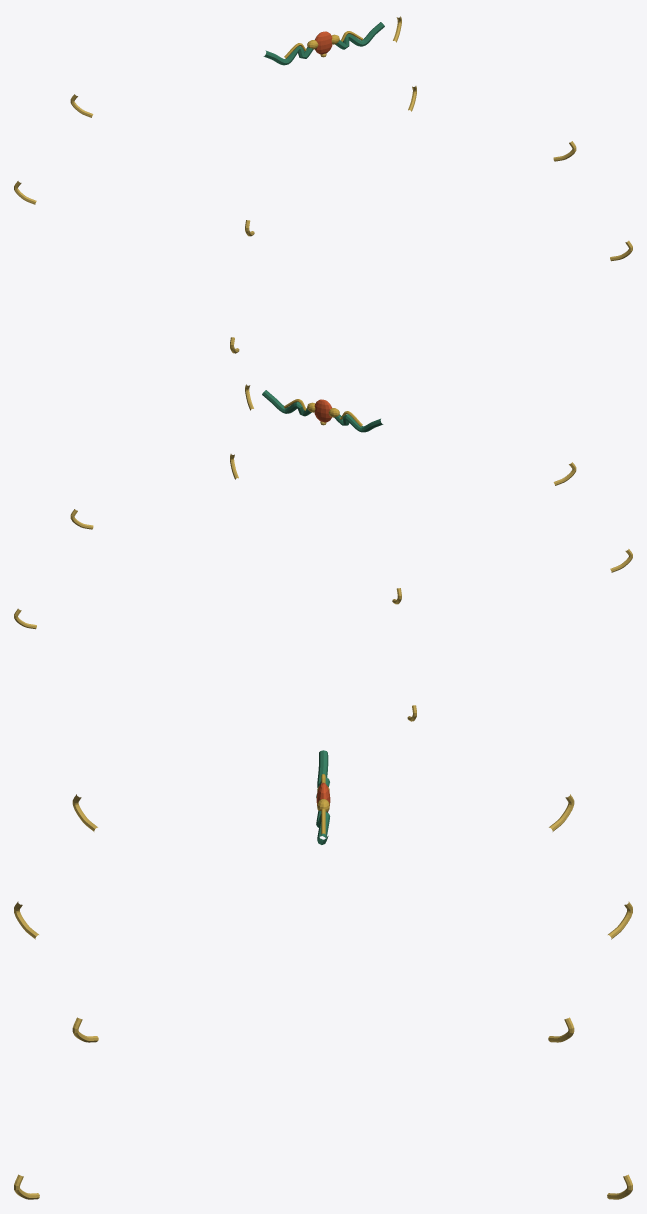
The model's file is tuphuong-hero.glb.
3 views of the same model, one above another, from view 1: azimuth 30°, elevation 25°; view 2: azimuth 150°, elevation 25°; view 3: azimuth 270°, elevation 25° (orthographic). The views are drawn at different scales.
Parts seen in each view (by area): view 1: tuphuong_hero_ornaments; view 2: tuphuong_hero_ornaments; view 3: tuphuong_hero_ornaments.
Boxes of the visible parts, bbox=[...] form: tuphuong_hero_ornaments: bbox=[14, 16, 632, 353]; tuphuong_hero_ornaments: bbox=[14, 384, 632, 721]; tuphuong_hero_ornaments: bbox=[14, 750, 632, 1199].
Size of the model in its own units: 16.27 by 7.76 by 15.27.
